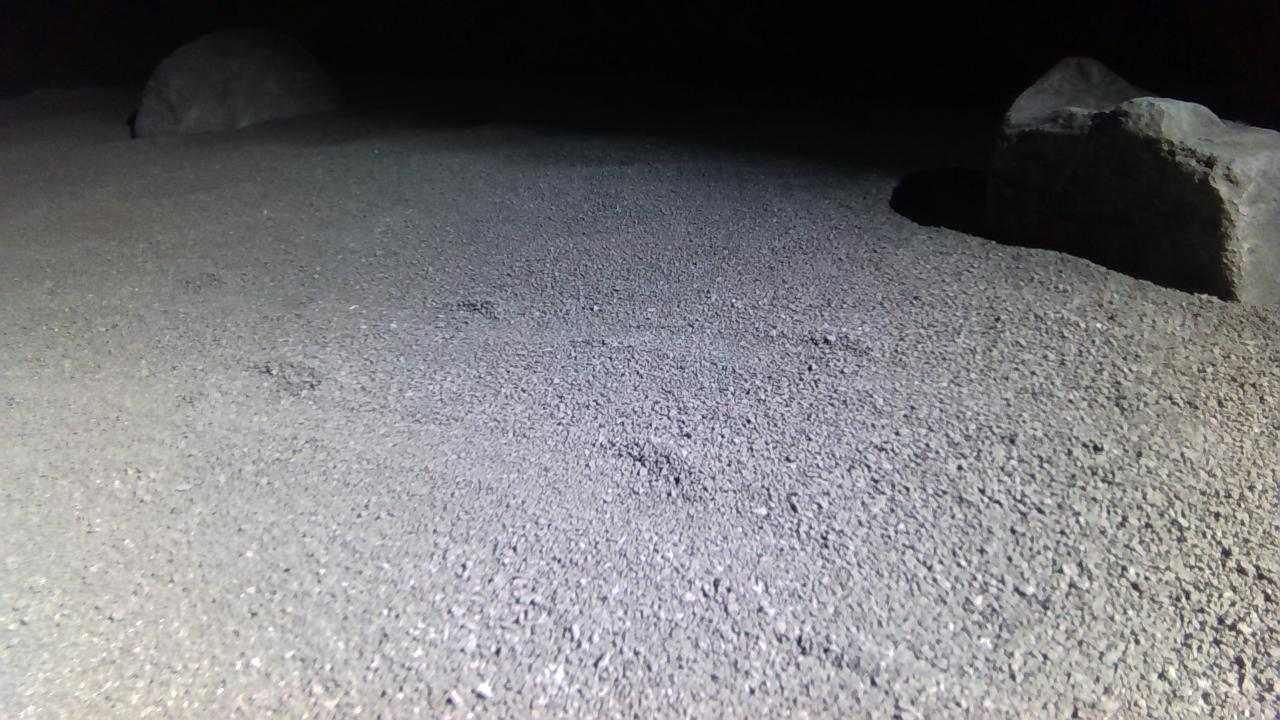rock: (989, 56, 1280, 303), (133, 27, 343, 135)
